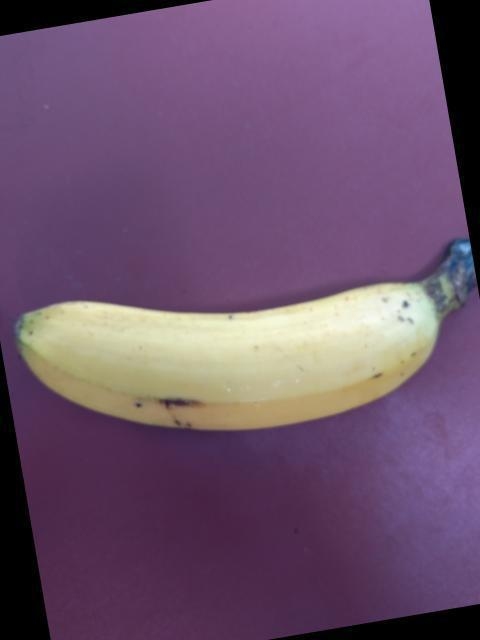freshripe: (9, 255, 459, 460)
